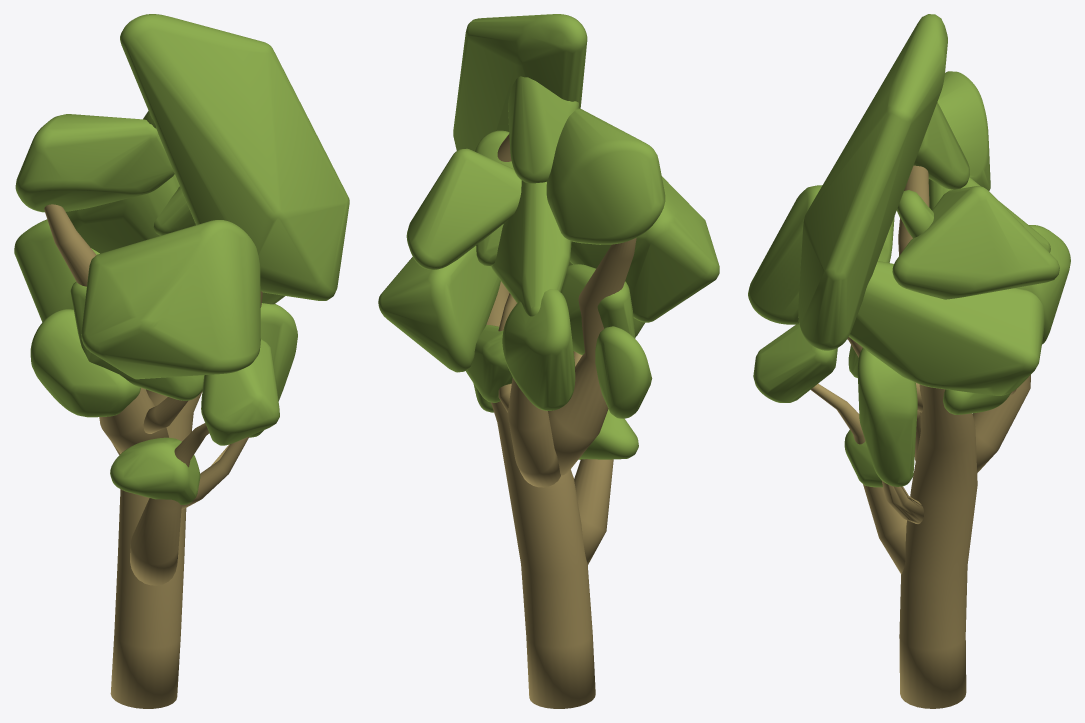
Rendered from tree_reg.fbx.
3 views of the same model, side by side, from view 1: azimuth 30°, elevation 25°; view 2: azimuth 150°, elevation 25°; view 3: azimuth 270°, elevation 25° (orthographic).
Visible parts, largest first — view 1: tree; view 2: tree; view 3: tree.
Part boxes in pixels (left/top/right/bottom): tree: left=14, top=14, right=349, bottom=708; tree: left=378, top=14, right=719, bottom=708; tree: left=748, top=14, right=1070, bottom=708.
Size of the model in its own units: 15729 by 38138 by 16446.
